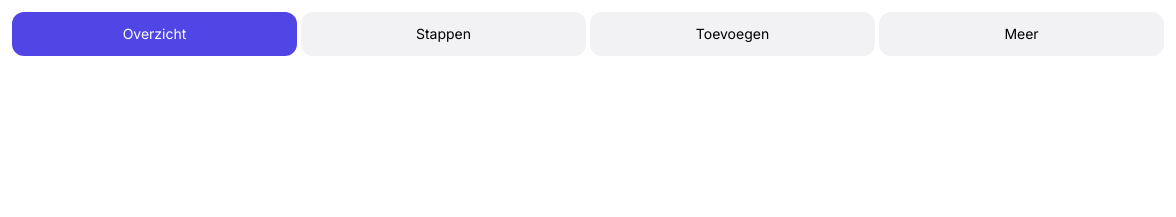
Test: sluit Meer met Escape en geeft toetsenbordfocus terug
The image size is (1176, 217).
Click the button with aria-label "Meer projectmogelijkheden". click: (1022, 34)
box: [879,12,1164,56]
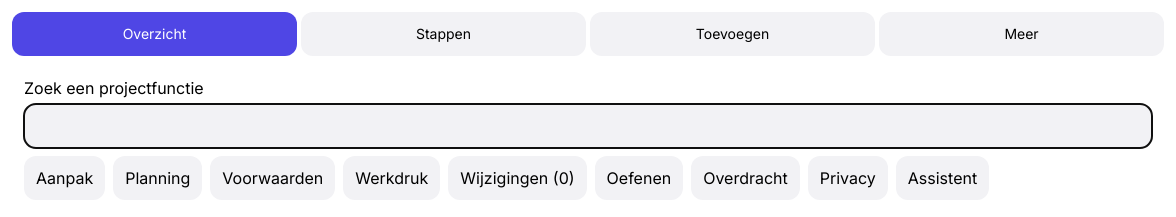
Press Escape in the search field labelled "Zoek een projectfunctie", box [24,104,1152,148]
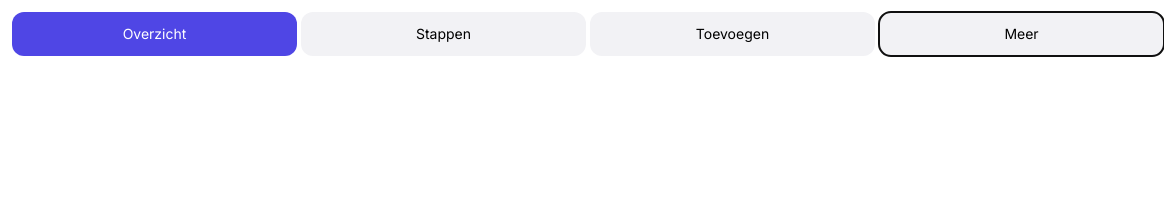
Now the label labelled "Zoek een projectfunctie" is gone
